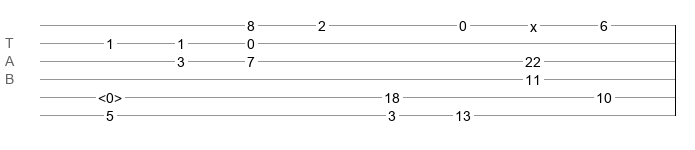0: (247, 36, 255, 46), (459, 18, 467, 28)
1: (106, 36, 114, 46), (177, 36, 185, 46)
10: (596, 90, 612, 100)
11: (525, 72, 541, 82)
13: (455, 108, 471, 118)
18: (384, 90, 400, 100)
2: (318, 18, 326, 28)
22: (525, 54, 541, 64)
3: (177, 54, 185, 64), (388, 108, 396, 118)
5: (106, 108, 114, 118)
6: (600, 18, 608, 28)
7: (247, 54, 255, 64)
8: (247, 18, 255, 28)
harmonic: (98, 90, 122, 100)
x: (530, 19, 537, 27)
